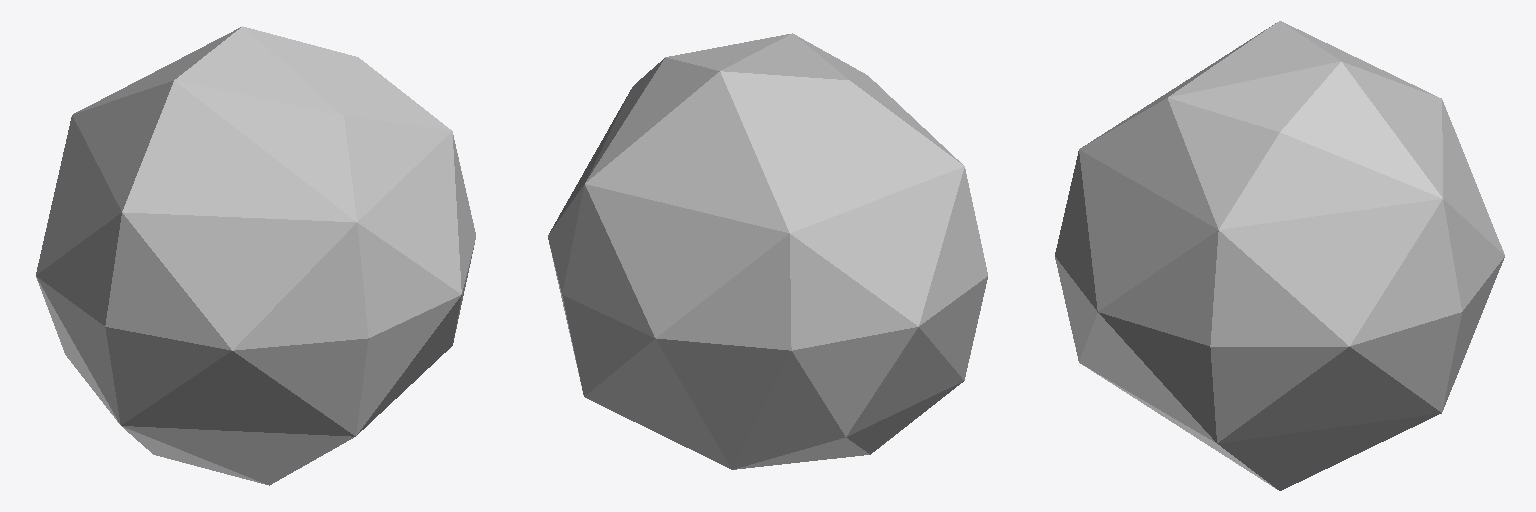
The model's file is smoke3.obj.
3 views of the same model, side by side, from view 1: azimuth 30°, elevation 25°; view 2: azimuth 150°, elevation 25°; view 3: azimuth 270°, elevation 25° (orthographic).
Visible parts, largest first — view 1: Icosphere_Icosphere.001; view 2: Icosphere_Icosphere.001; view 3: Icosphere_Icosphere.001.
Boxes of the visible parts, x1=… form: Icosphere_Icosphere.001: x1=36, y1=26, x2=475, y2=485; Icosphere_Icosphere.001: x1=548, y1=33, x2=987, y2=469; Icosphere_Icosphere.001: x1=1055, y1=21, x2=1504, y2=490.
Size of the model in its own units: 0.8021 by 0.8385 by 0.8434.